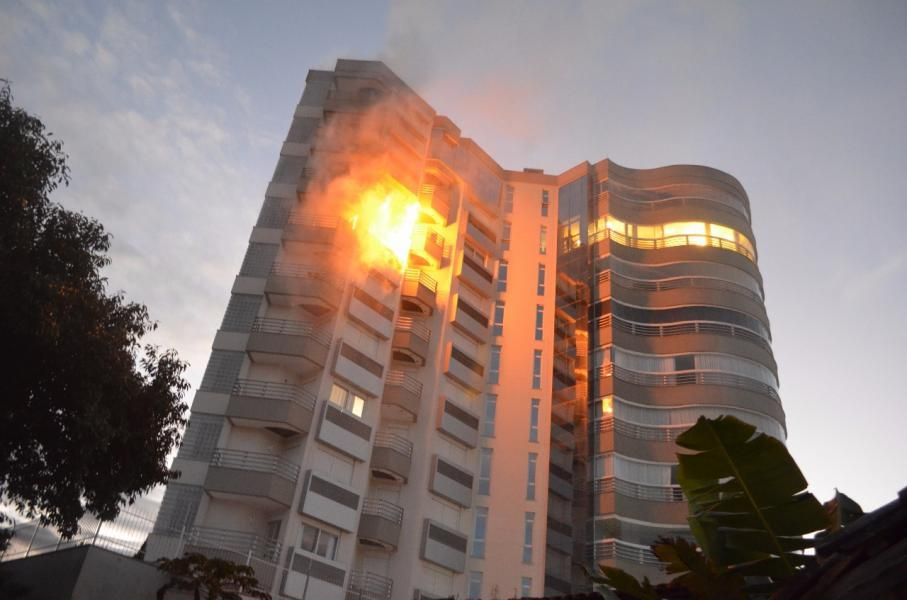Fire: (359, 191, 429, 266)
